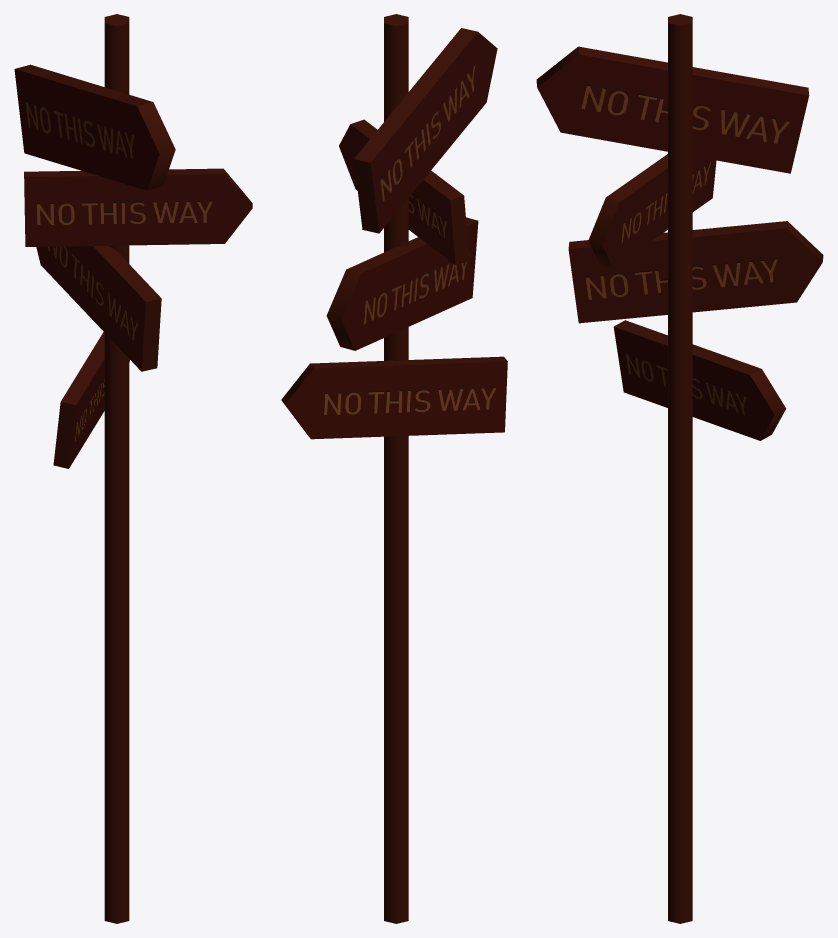
Rendered from Signpost.fbx.
The picture shows the model from 3 angles, left to right: view 1: azimuth 30°, elevation 25°; view 2: azimuth 150°, elevation 25°; view 3: azimuth 270°, elevation 25°; orthographic projection.
Visible parts, largest first — view 1: polySurface97, polySurface104, polySurface102, polySurface107, polySurface99, polySurface103, polySurface105, polySurface108, polySurface101; view 2: polySurface97, polySurface109, polySurface102, polySurface107, polySurface99, polySurface100, polySurface103, polySurface101, polySurface105; view 3: polySurface97, polySurface98, polySurface106, polySurface108, polySurface100, polySurface99, polySurface105, polySurface101, polySurface103.
Part boxes in pixels (x1,y1,x2,y2): polySurface97: (104, 14, 129, 923); polySurface104: (24, 174, 252, 246); polySurface102: (14, 69, 159, 190); polySurface107: (36, 246, 145, 371); polySurface99: (15, 64, 175, 190); polySurface103: (93, 245, 161, 371); polySurface105: (53, 332, 104, 468); polySurface108: (69, 359, 129, 468); polySurface101: (24, 168, 252, 208); polySurface97: (384, 14, 408, 923); polySurface109: (285, 361, 507, 439); polySurface102: (370, 32, 497, 232); polySurface107: (341, 221, 478, 350); polySurface99: (354, 28, 477, 233); polySurface100: (339, 124, 455, 264); polySurface103: (326, 217, 477, 350); polySurface101: (350, 119, 469, 265); polySurface105: (281, 356, 507, 436); polySurface97: (668, 14, 692, 923); polySurface98: (537, 54, 808, 173); polySurface106: (568, 228, 822, 323); polySurface108: (613, 327, 774, 440); polySurface100: (602, 156, 716, 267); polySurface99: (536, 46, 809, 95); polySurface105: (614, 320, 786, 440); polySurface101: (588, 154, 667, 267); polySurface103: (568, 221, 823, 261).
Bounding box in the file's own units: 2.4 × 11.29 × 3.27.
2 materials, 2 textured.
